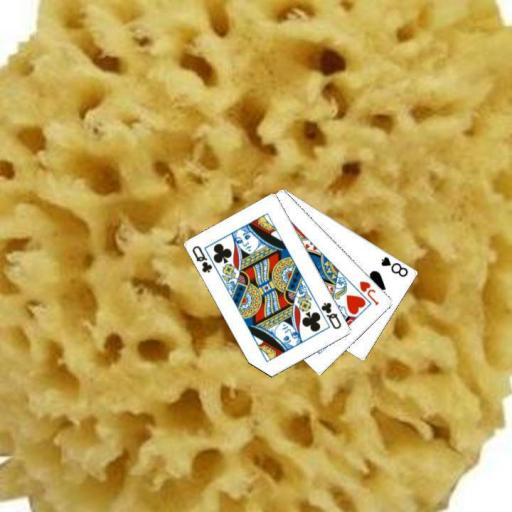card-corner: (378, 253, 410, 279), (318, 299, 343, 331), (189, 242, 214, 274), (356, 278, 380, 307)
